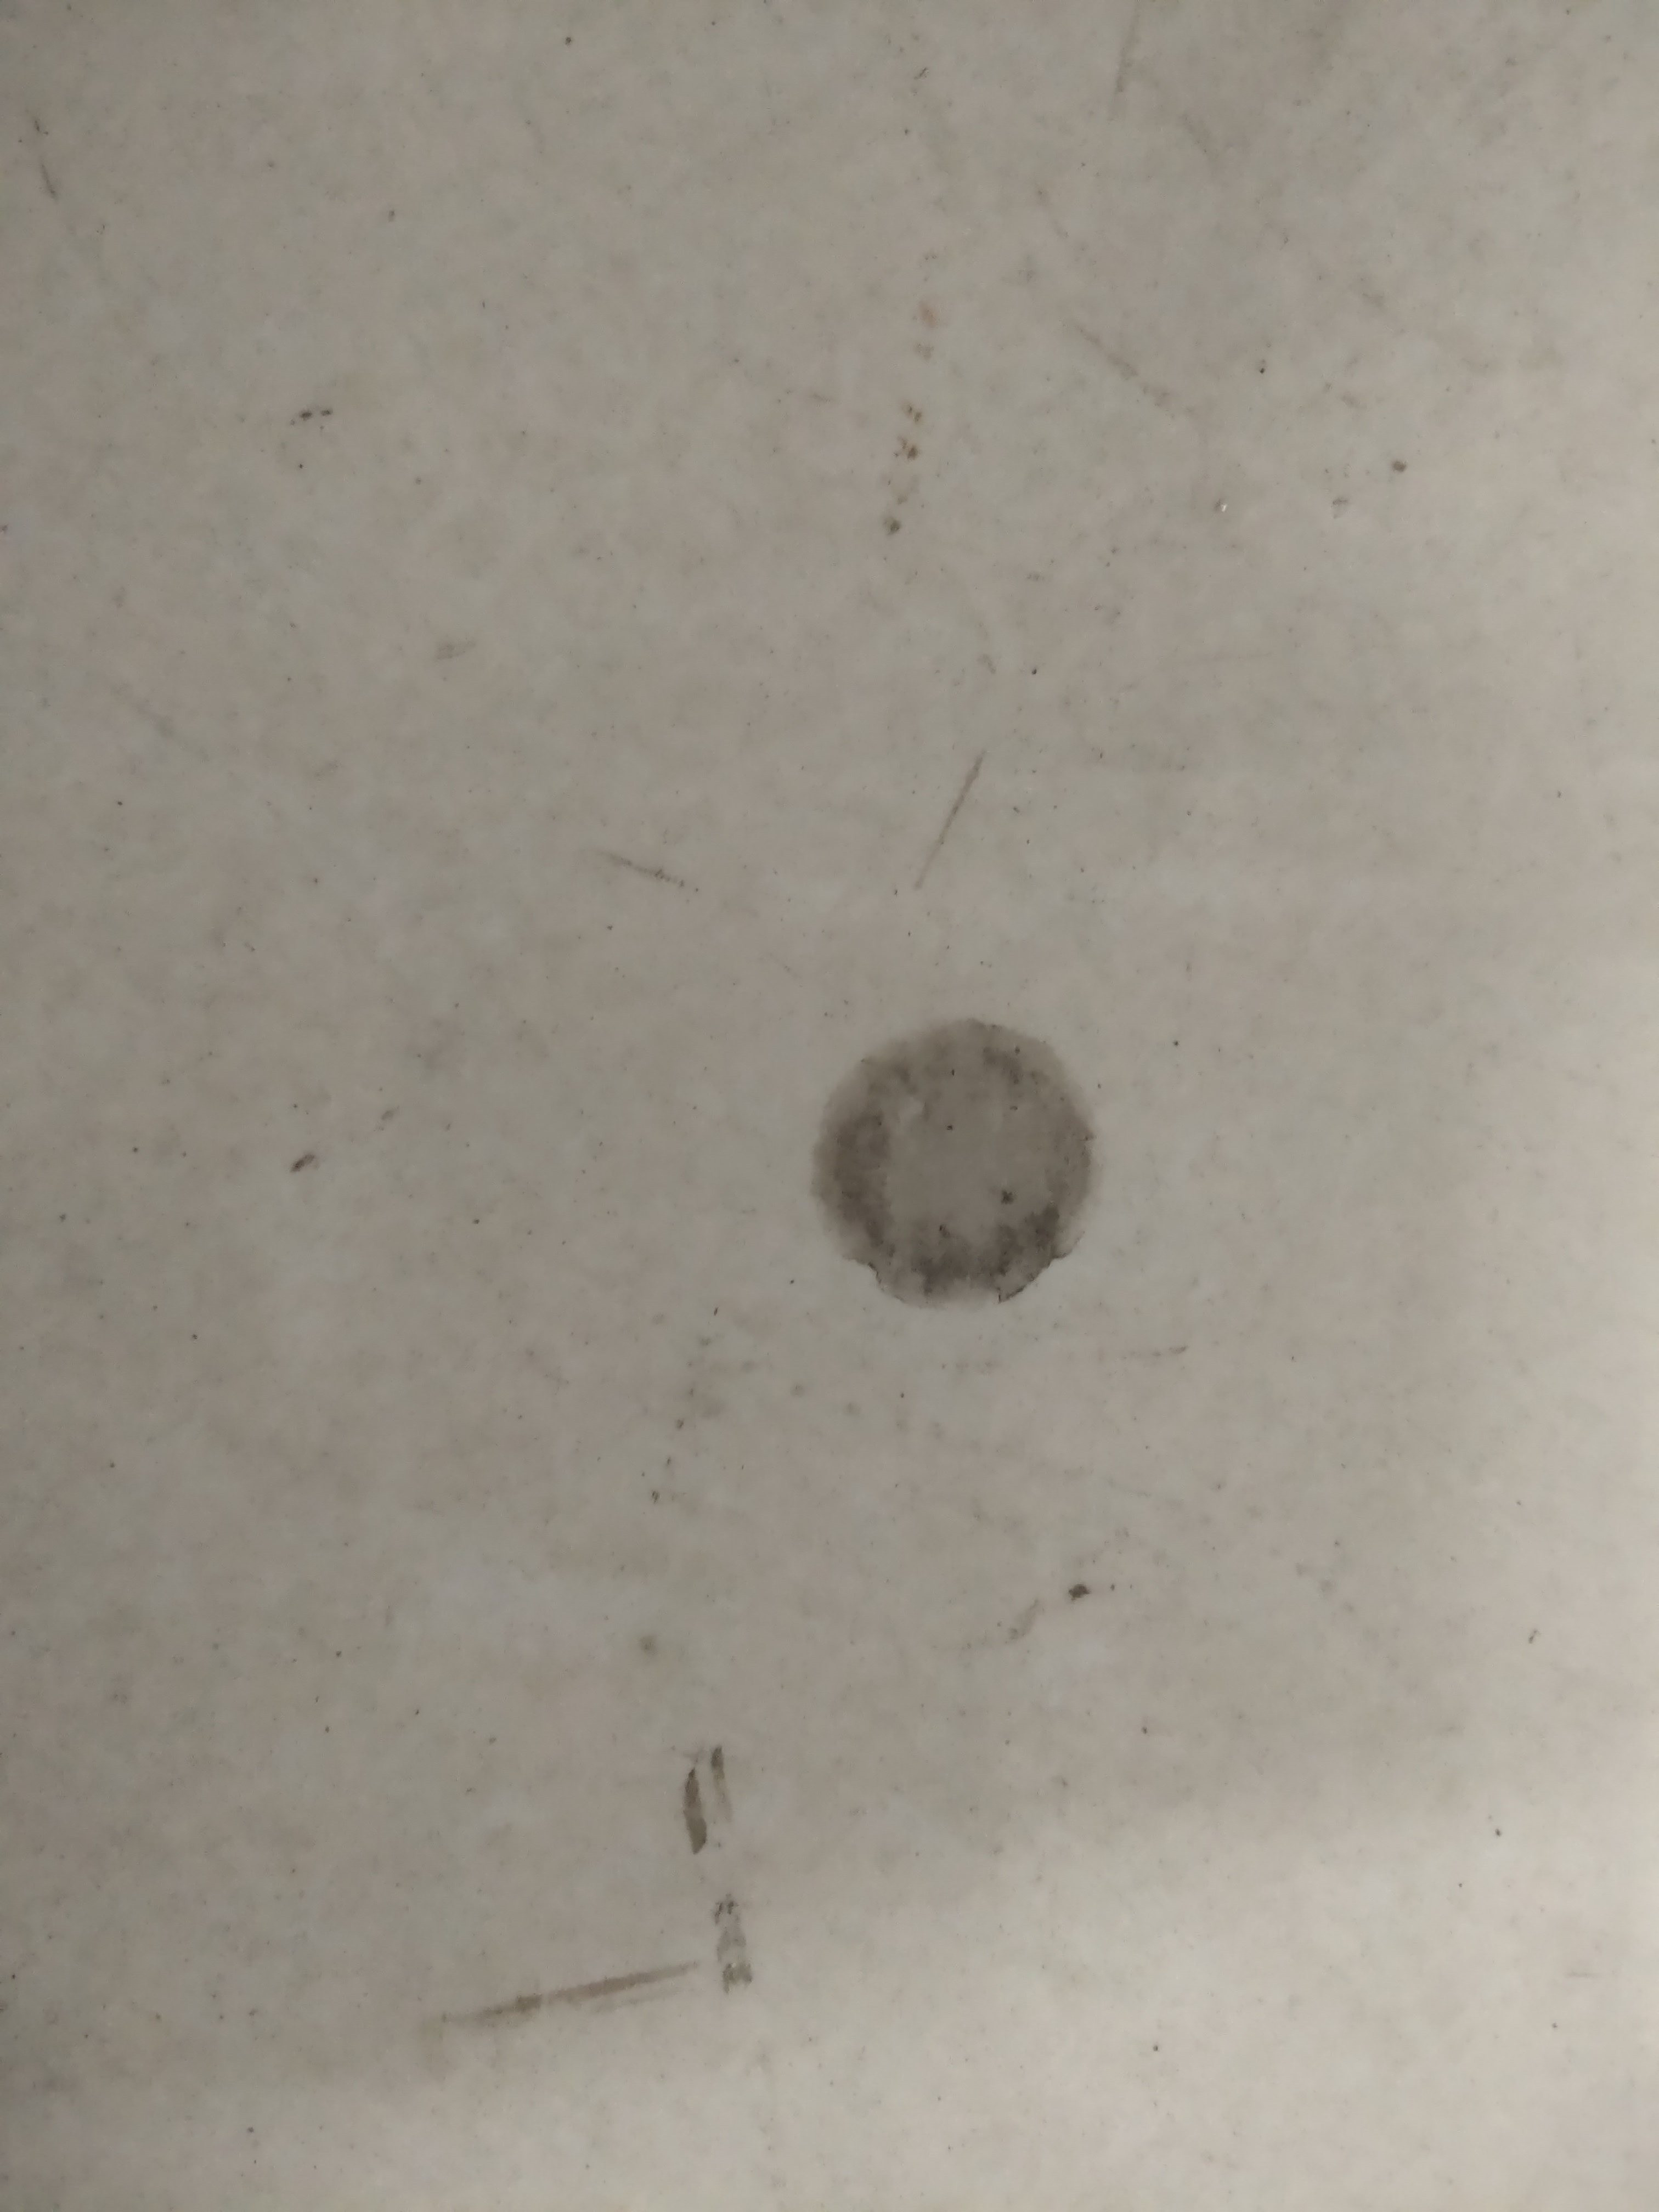grey spot: (809, 1017, 1100, 1306)
